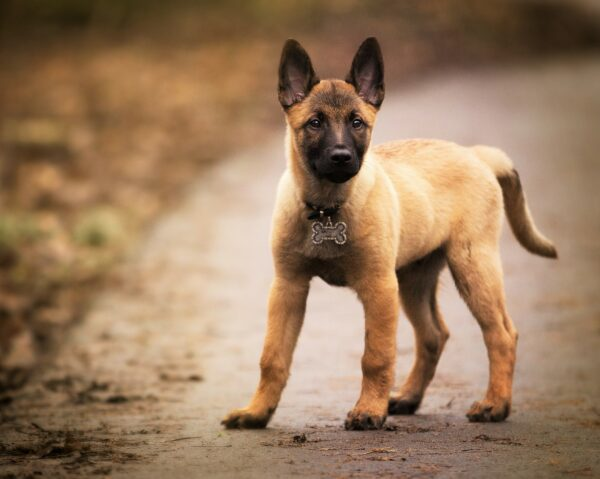dog: (224, 34, 564, 427)
